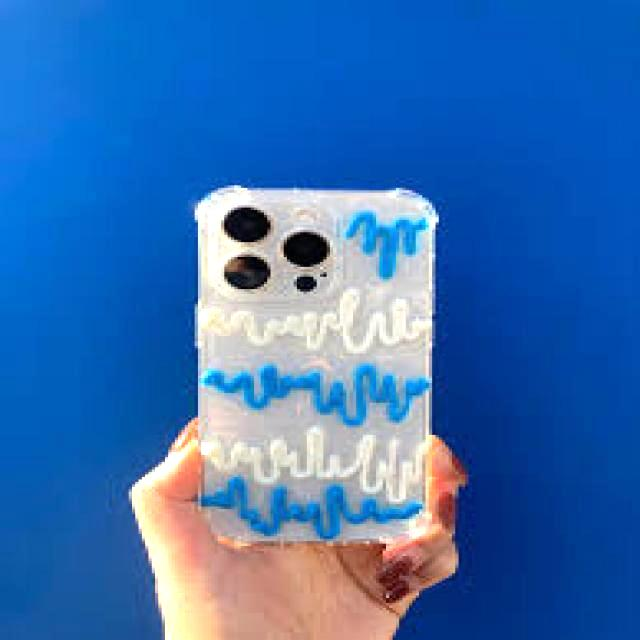lens_back: (214, 248, 275, 297), (278, 225, 340, 271), (215, 203, 278, 248)
phone: (192, 186, 446, 553)
